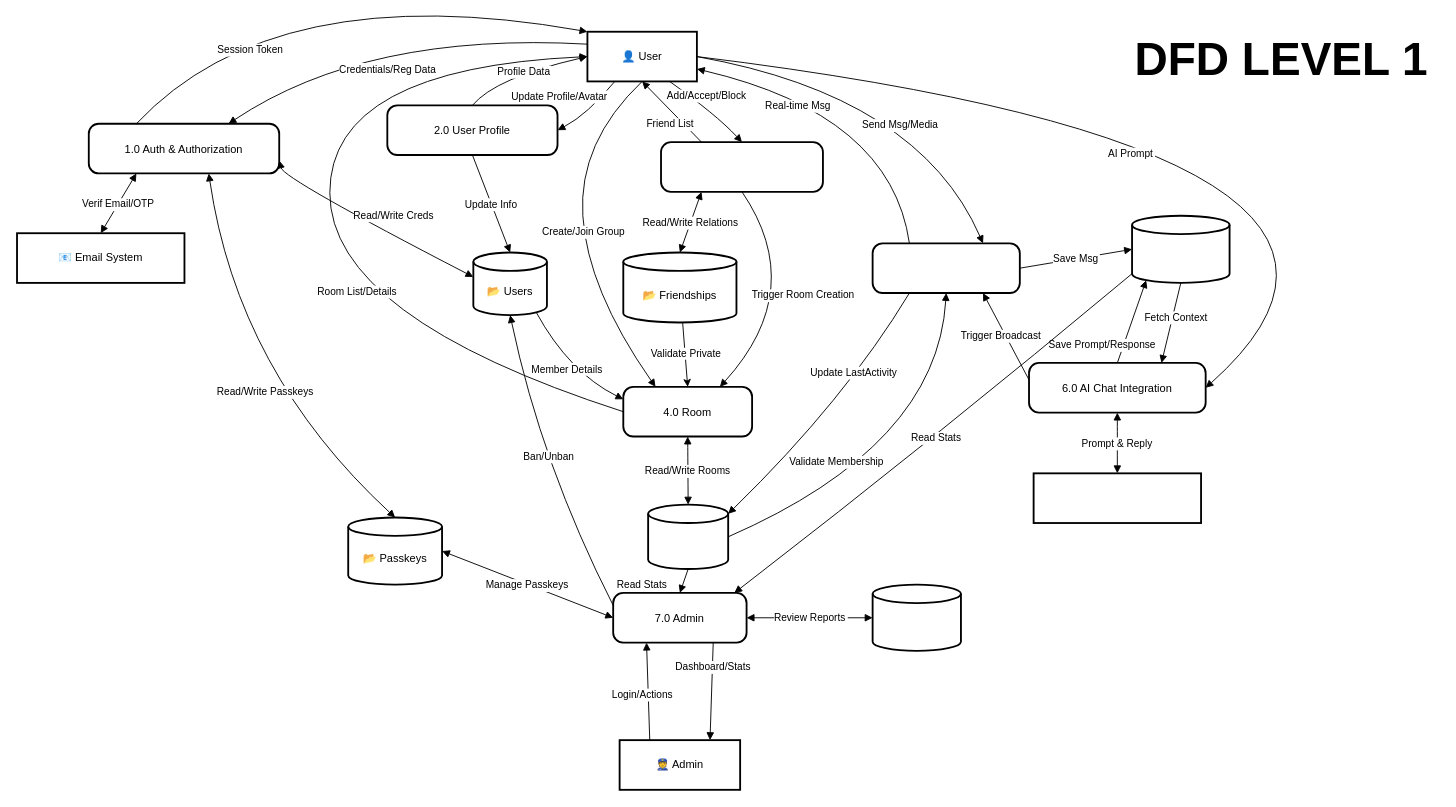
Some shapes in this 1456 by 807 pixel diagram are drawn without their labels. Each missing label, with the centre of its shape:
3.0 Friendship: the point at 741,166
5.0 Message: the point at 945,267
📂 Messages: the point at 1180,248
📂 Reports: the point at 916,617
📂 Rooms: the point at 688,536
🤖 Gemini AI API: the point at 1117,497
